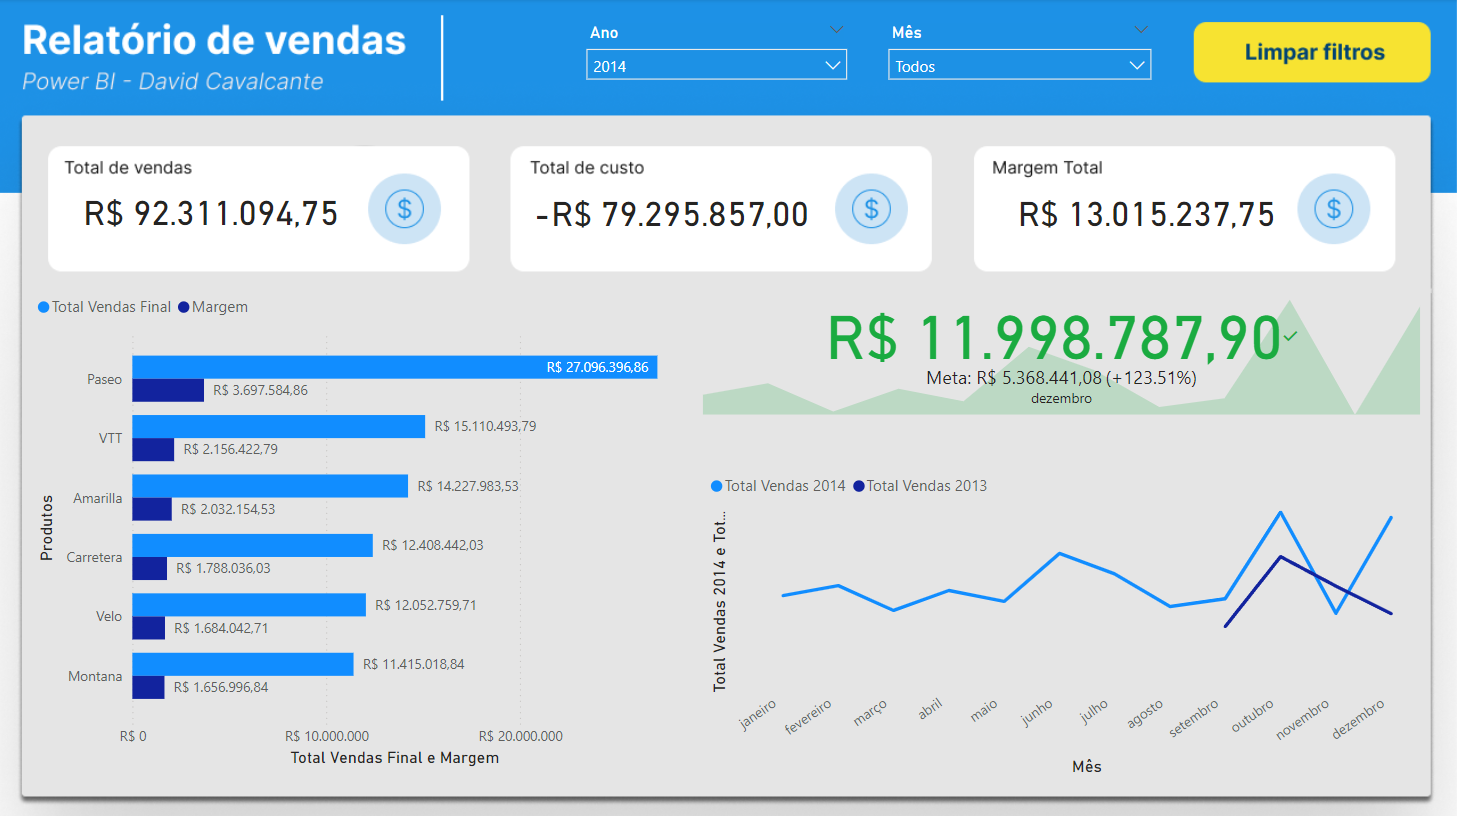

Layout of this report page (visuals, bound fields, positions):
{"tool":"powerbi","page":{"name":"Página 1","canvas":[1280,720],"ordinal":0},"visuals":[{"type":"card","fields":{"Values":["Medidas.Total Vendas Final"]},"box":[37.8,154.4,295.6,63.3],"z":0},{"type":"clusteredBarChart","fields":{"Category":["F_Vendas.Produtos"],"Y":["Medidas.Total Vendas Final","Medidas.Margem"]},"box":[27.5,250,590,428.8],"z":1000},{"type":"card","fields":{"Values":["Medidas.Custo"]},"box":[384.4,134.4,408.9,104.4],"z":2000},{"type":"card","fields":{"Values":["Medidas.Margem"]},"box":[810,134.4,393.3,104.4],"z":3000},{"type":"kpi","fields":{"Indicator":["Medidas.Total Vendas 2014"],"Goal":["Medidas.Total Vendas 2013"],"TrendLine":["D_Calendario.Mês"]},"box":[612.2,258.9,640,111.1],"z":4000},{"type":"lineChart","fields":{"Category":["D_Calendario.Mês"],"Y":["Medidas.Total Vendas 2014","Medidas.Total Vendas 2013"]},"box":[617.8,407.8,627.8,280],"z":5000},{"type":"actionButton","box":[1053,23,199,45],"z":6000},{"type":"slicer","fields":{"Values":["D_Calendario.Ano"]},"box":[505,16,249,79],"z":7000},{"type":"slicer","fields":{"Values":["D_Calendario.Mês"]},"box":[770,16,251,79],"z":8000}]}

Visuals, with their boxes in screenshot pixels (x1, y1, x2, y2), scaled from the page's 1280x720 canvas onto the 1457x816 screenshot:
card - Medidas.Total Vendas Final: x1=43, y1=175, x2=380, y2=247
clusteredBarChart - F_Vendas.Produtos x Medidas.Total Vendas Final: x1=31, y1=283, x2=703, y2=769
card - Medidas.Custo: x1=438, y1=152, x2=903, y2=271
card - Medidas.Margem: x1=922, y1=152, x2=1370, y2=271
kpi - Medidas.Total Vendas 2014 x Medidas.Total Vendas 2013: x1=697, y1=293, x2=1425, y2=419
lineChart - D_Calendario.Mês x Medidas.Total Vendas 2014: x1=703, y1=462, x2=1418, y2=780
actionButton: x1=1199, y1=26, x2=1425, y2=77
slicer - D_Calendario.Ano: x1=575, y1=18, x2=858, y2=108
slicer - D_Calendario.Mês: x1=876, y1=18, x2=1162, y2=108
